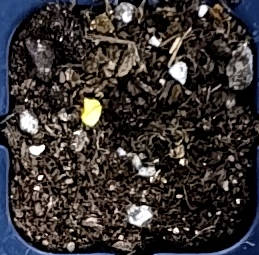pepper seed: (29, 31, 132, 160)
